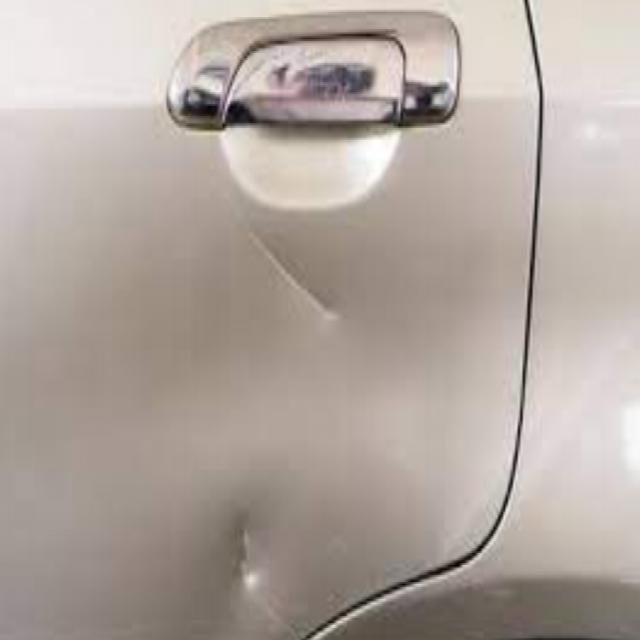dents: (234, 216, 356, 338), (220, 511, 278, 596)
